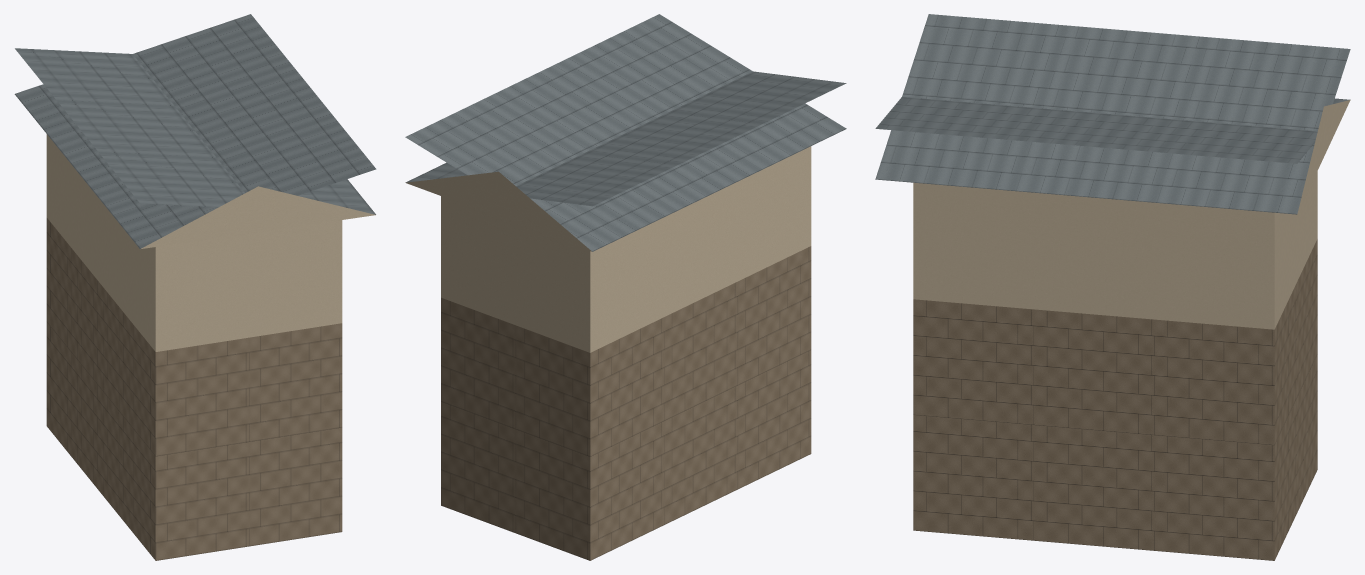
The model's file is bld_c22_29_393.gltf.
The picture shows the model from 3 angles, left to right: view 1: azimuth 30°, elevation 25°; view 2: azimuth 150°, elevation 25°; view 3: azimuth 270°, elevation 25°; orthographic projection. The views are drawn at different scales.
Parts seen in each view (by area): view 1: bld_c22_29_393; view 2: bld_c22_29_393; view 3: bld_c22_29_393.
Boxes of the visible parts, x1=… form: bld_c22_29_393: x1=14, y1=14, x2=376, y2=560; bld_c22_29_393: x1=405, y1=14, x2=846, y2=560; bld_c22_29_393: x1=875, y1=14, x2=1350, y2=560.
Bounding box in the file's own units: 6.33 × 8.1 × 8.49.
4 materials, 4 textured.
